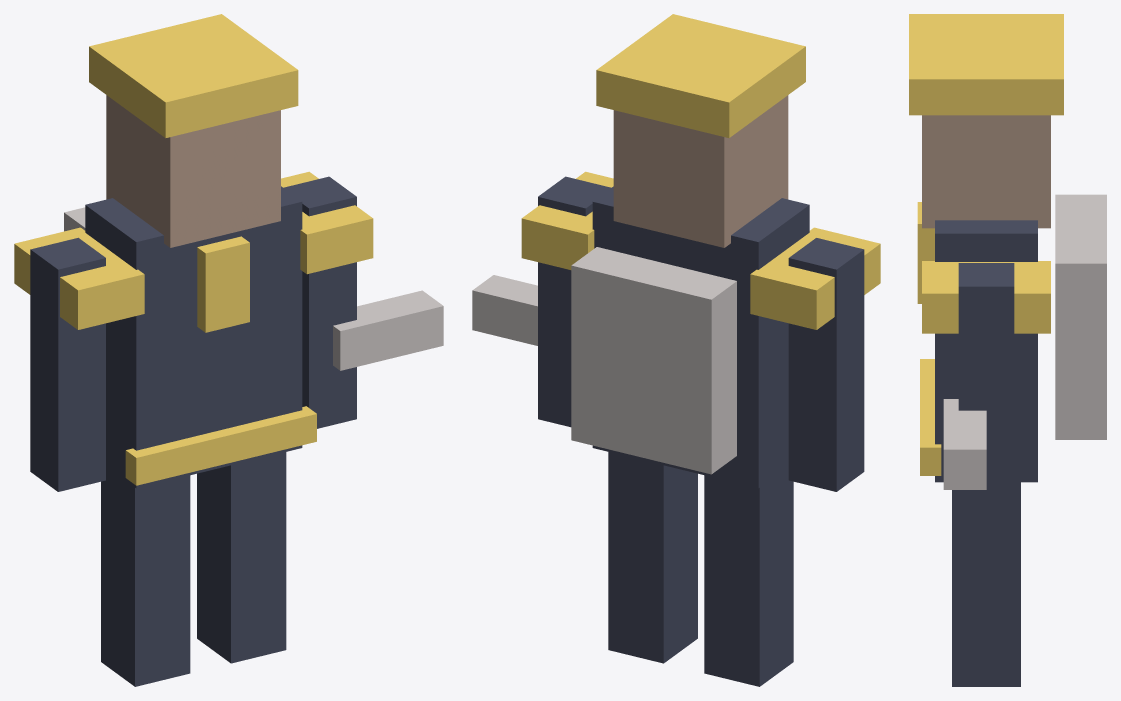
The model's file is 15_nyra_wayfare_keeper_under_adaptive.glb.
3 views of the same model, side by side, from view 1: azimuth 30°, elevation 25°; view 2: azimuth 150°, elevation 25°; view 3: azimuth 270°, elevation 25° (orthographic).
Parts seen in each view (by area): view 1: Nyra Wayfare, Keeper under Adaptive; view 2: Nyra Wayfare, Keeper under Adaptive; view 3: Nyra Wayfare, Keeper under Adaptive.
Boxes of the visible parts, left/top/right/bottom form: Nyra Wayfare, Keeper under Adaptive: left=14, top=14, right=443, bottom=686; Nyra Wayfare, Keeper under Adaptive: left=472, top=14, right=880, bottom=686; Nyra Wayfare, Keeper under Adaptive: left=909, top=14, right=1106, bottom=686.
Bounding box in the file's own units: 1 × 1.52 × 0.451.
